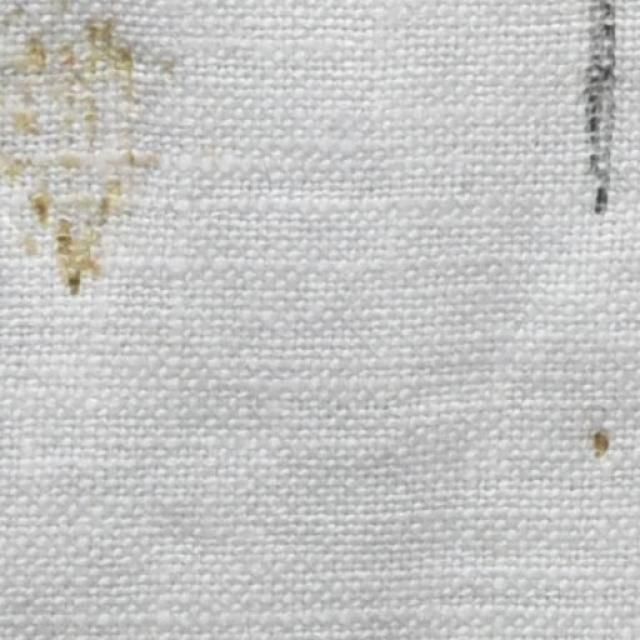Stain: (0, 2, 159, 289), (588, 0, 629, 221), (594, 432, 611, 458)
